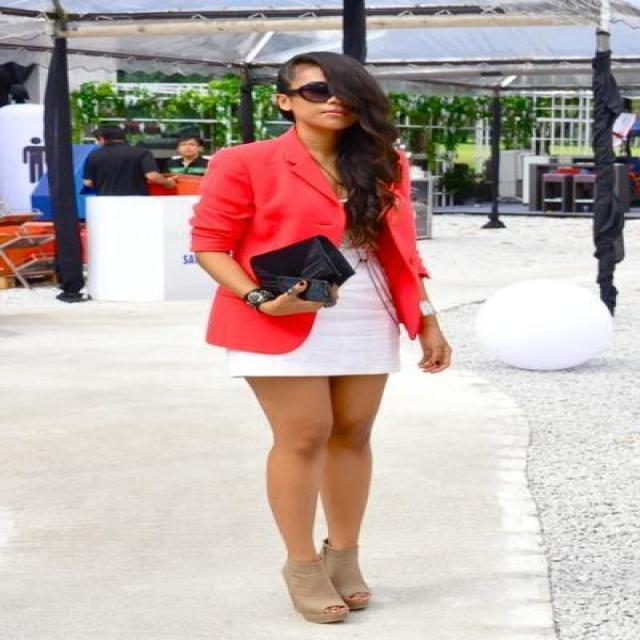bag: (251, 235, 355, 306)
dress: (222, 243, 422, 376)
jacket: (173, 126, 435, 354)
shoe: (282, 558, 369, 624)
sunglass: (288, 76, 341, 108)
